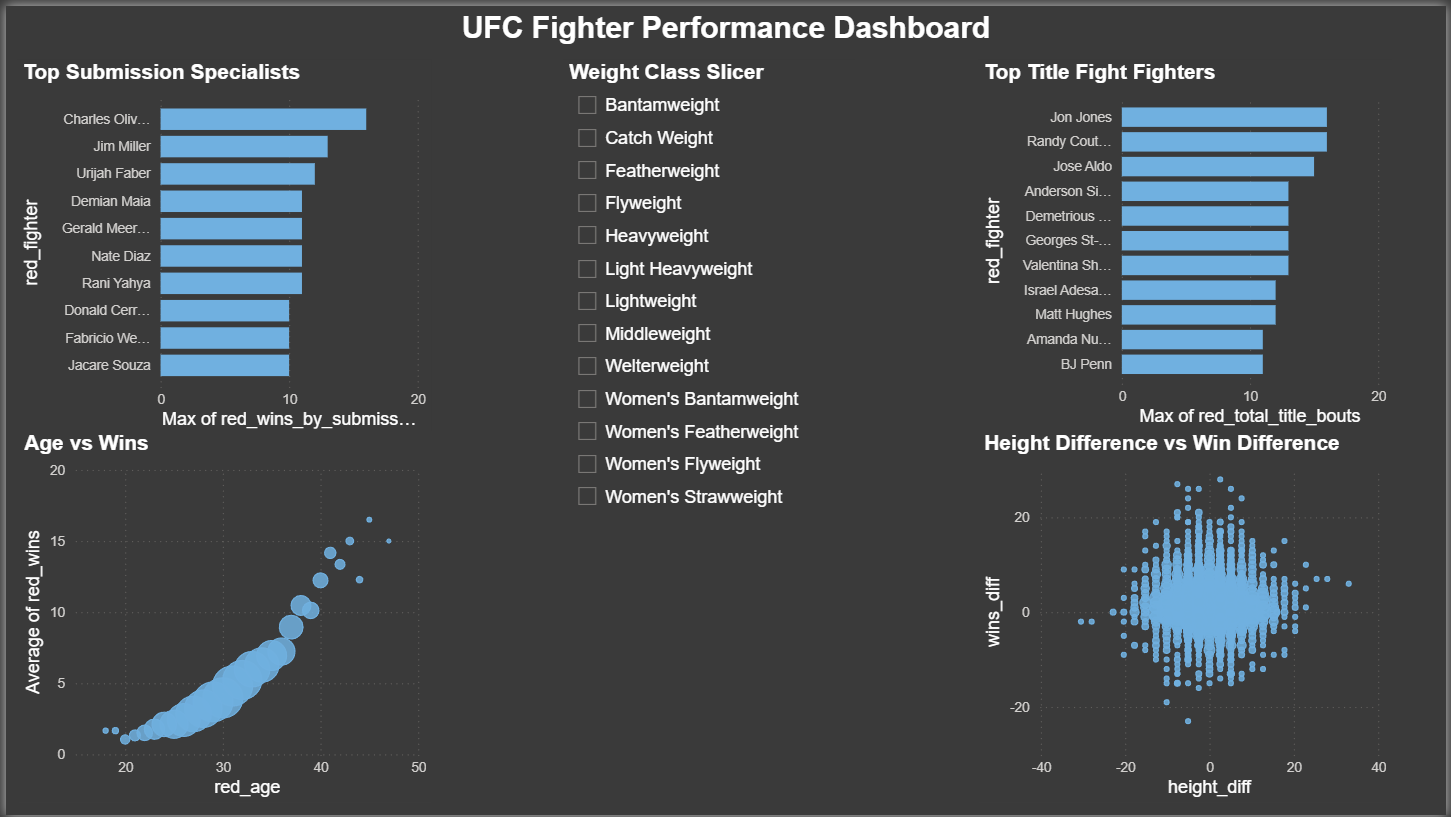

The page's visual inventory and layout, read from the dashboard file:
{"tool":"powerbi","page":{"name":"UFC Fighter Performance","canvas":[1280,720],"ordinal":2},"visuals":[{"type":"textbox","box":[10.2,0,1260.1,47.4],"z":0},{"type":"clusteredBarChart","title":"Top Submission Specialists","fields":{"Category":["all_fights.red_fighter"],"Y":["Max(all_fights.red_wins_by_submission)"]},"box":[10.2,47.4,368.1,333.1],"z":1000},{"type":"clusteredBarChart","title":"Top Title Fight Fighters","fields":{"Category":["all_fights.red_fighter"],"Y":["Max(all_fights.red_total_title_bouts)"]},"box":[864,47.7,367.4,330.2],"z":1001},{"type":"scatterChart","title":"Age vs Wins","fields":{"X":["all_fights.red_age"],"Y":["Avg(all_fights.red_wins)"],"Size":["CountNonNull(all_fights.red_fighter)"]},"box":[11.6,377.9,367.4,330.2],"z":1002},{"type":"scatterChart","title":"Height Difference vs Win Difference","fields":{"X":["all_fights.height_diff"],"Y":["all_fights.wins_diff"],"Size":["CountNonNull(all_fights.red_wins)"]},"box":[864,377.9,367.4,330.2],"z":1003},{"type":"slicer","title":"Weight Class Slicer","fields":{"Values":["all_fights.weight_class"]},"box":[495.4,47.7,259.3,498.8],"z":1004}]}

Visuals, with their boxes in screenshot pixels (x1, y1, x2, y2), scaled from the page's 1280x720 canvas onto the 1451x817 screenshot:
textbox: <bbox>12, 0, 1440, 54</bbox>
"Top Submission Specialists" clusteredBarChart: <bbox>12, 54, 429, 432</bbox>
"Top Title Fight Fighters" clusteredBarChart: <bbox>979, 54, 1396, 429</bbox>
"Age vs Wins" scatterChart: <bbox>13, 429, 430, 803</bbox>
"Height Difference vs Win Difference" scatterChart: <bbox>979, 429, 1396, 803</bbox>
"Weight Class Slicer" slicer: <bbox>562, 54, 856, 620</bbox>
